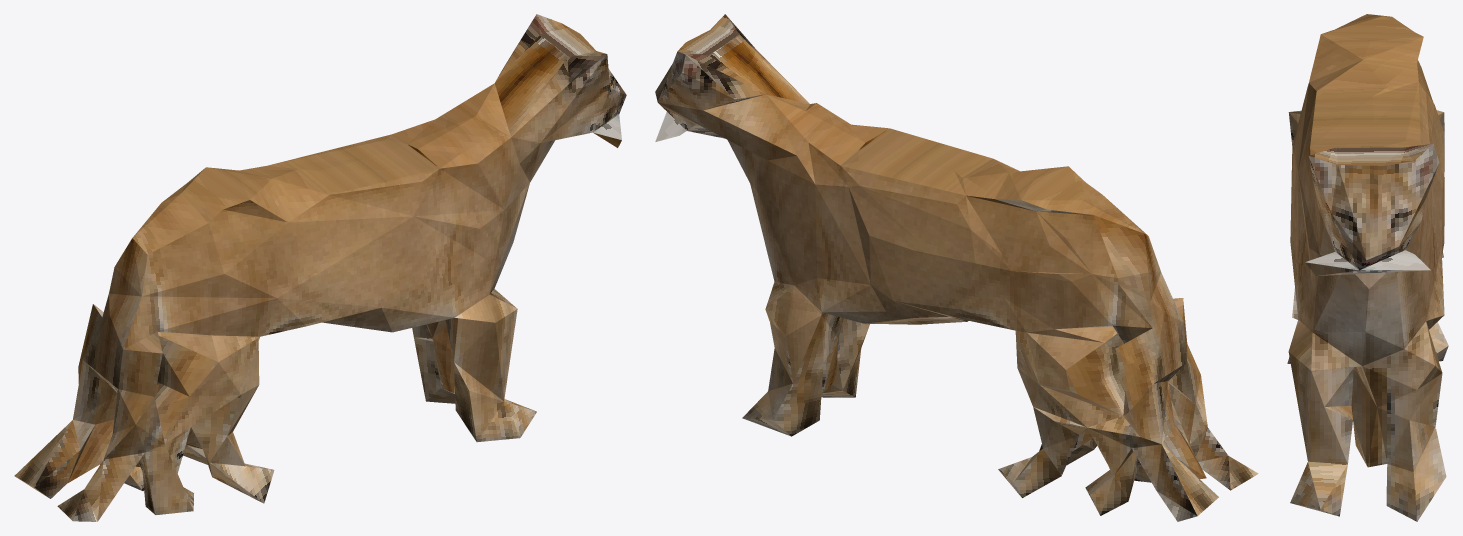
File: animal.salvaje.puma.glb
3 renders of one model, left to right at view 1: azimuth 30°, elevation 25°; view 2: azimuth 150°, elevation 25°; view 3: azimuth 270°, elevation 25°, orthographic. The views are drawn at different scales.
Parts seen in each view (by area): view 1: animal.salvaje.puma; view 2: animal.salvaje.puma; view 3: animal.salvaje.puma.
Boxes of the visible parts, box(x1,y1,x2,y2) form: animal.salvaje.puma: box(14, 14, 626, 521); animal.salvaje.puma: box(655, 14, 1258, 521); animal.salvaje.puma: box(1287, 14, 1448, 521).
Bounding box in the file's own units: 1.9 × 1.14 × 0.4058.
Materials: 1 (1 with a texture image).
